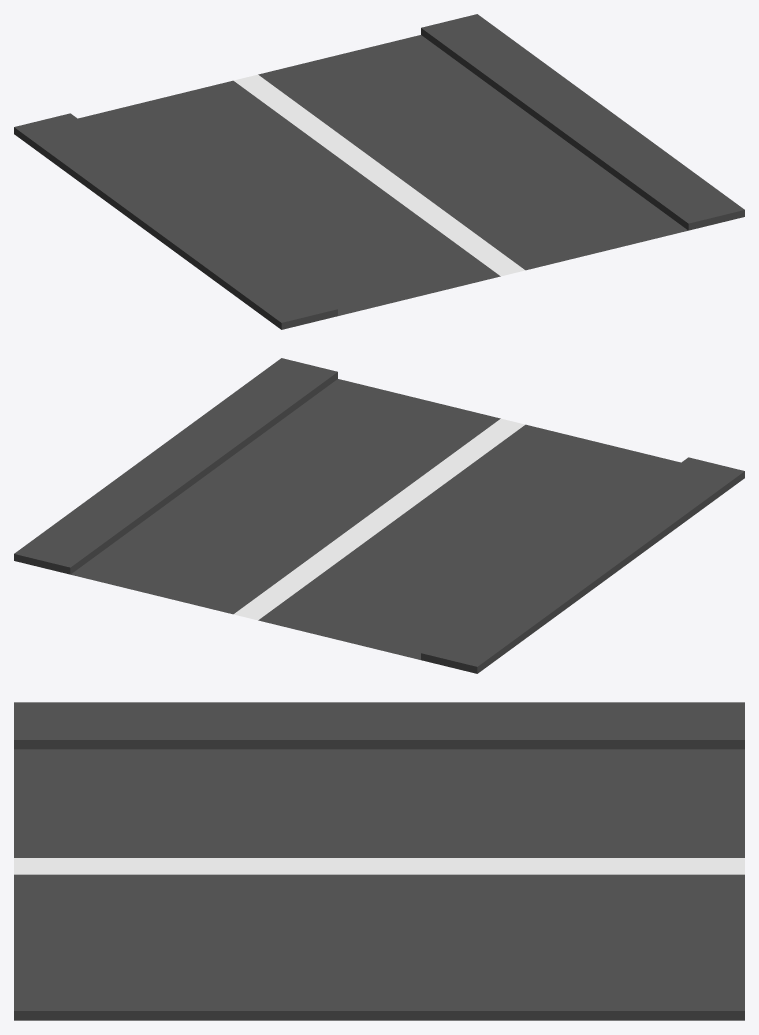
File: Rue.fbx
The picture shows the model from 3 angles, top to bottom: view 1: azimuth 30°, elevation 25°; view 2: azimuth 150°, elevation 25°; view 3: azimuth 270°, elevation 25°; orthographic projection. The views are drawn at different scales.
Visible parts, largest first — view 1: Plane; view 2: Plane; view 3: Plane.
Boxes of the visible parts, x1,y1,x2,y2 form: Plane: (14, 14, 744, 329); Plane: (14, 358, 744, 673); Plane: (14, 702, 744, 1020).
Bounding box in the file's own units: 3000 × 43.6 × 3000.
